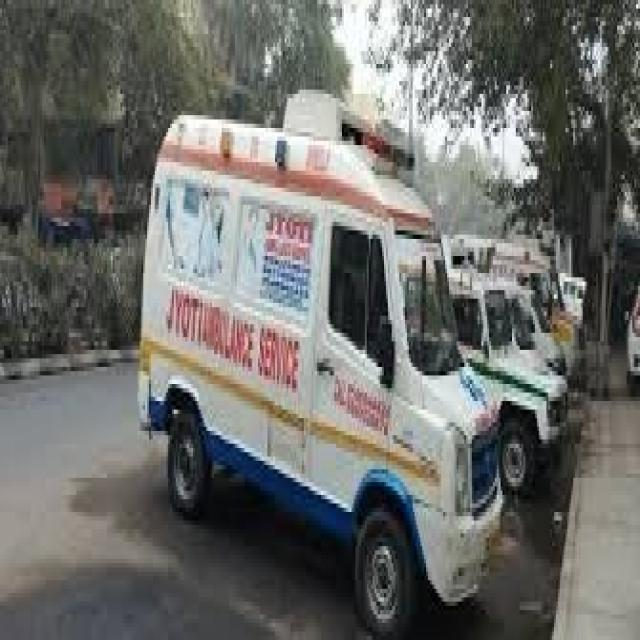ambulance: (146, 108, 504, 640)
